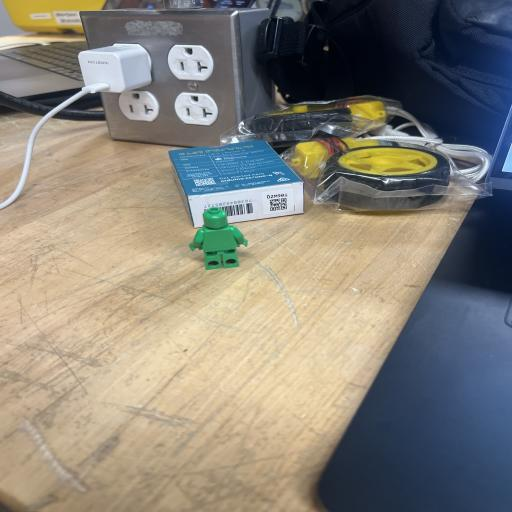green-lego-minifigure-detector: (189, 207, 247, 270)
